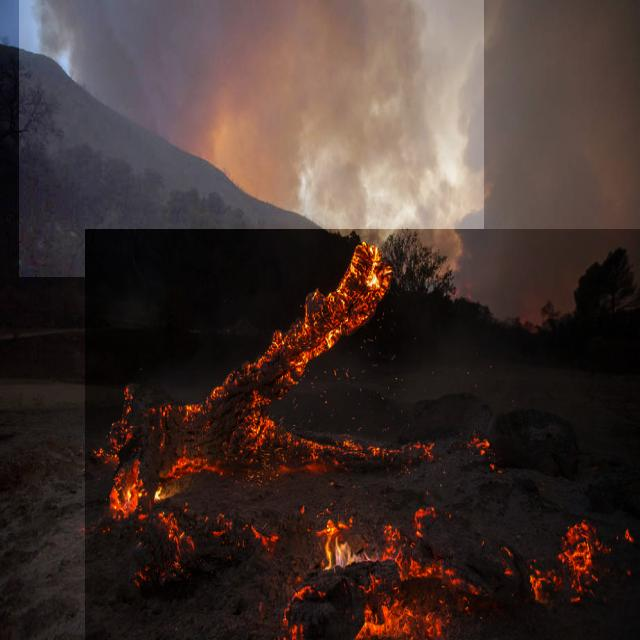Fire: (85, 229, 640, 640)
Smoke: (19, 0, 484, 277)
